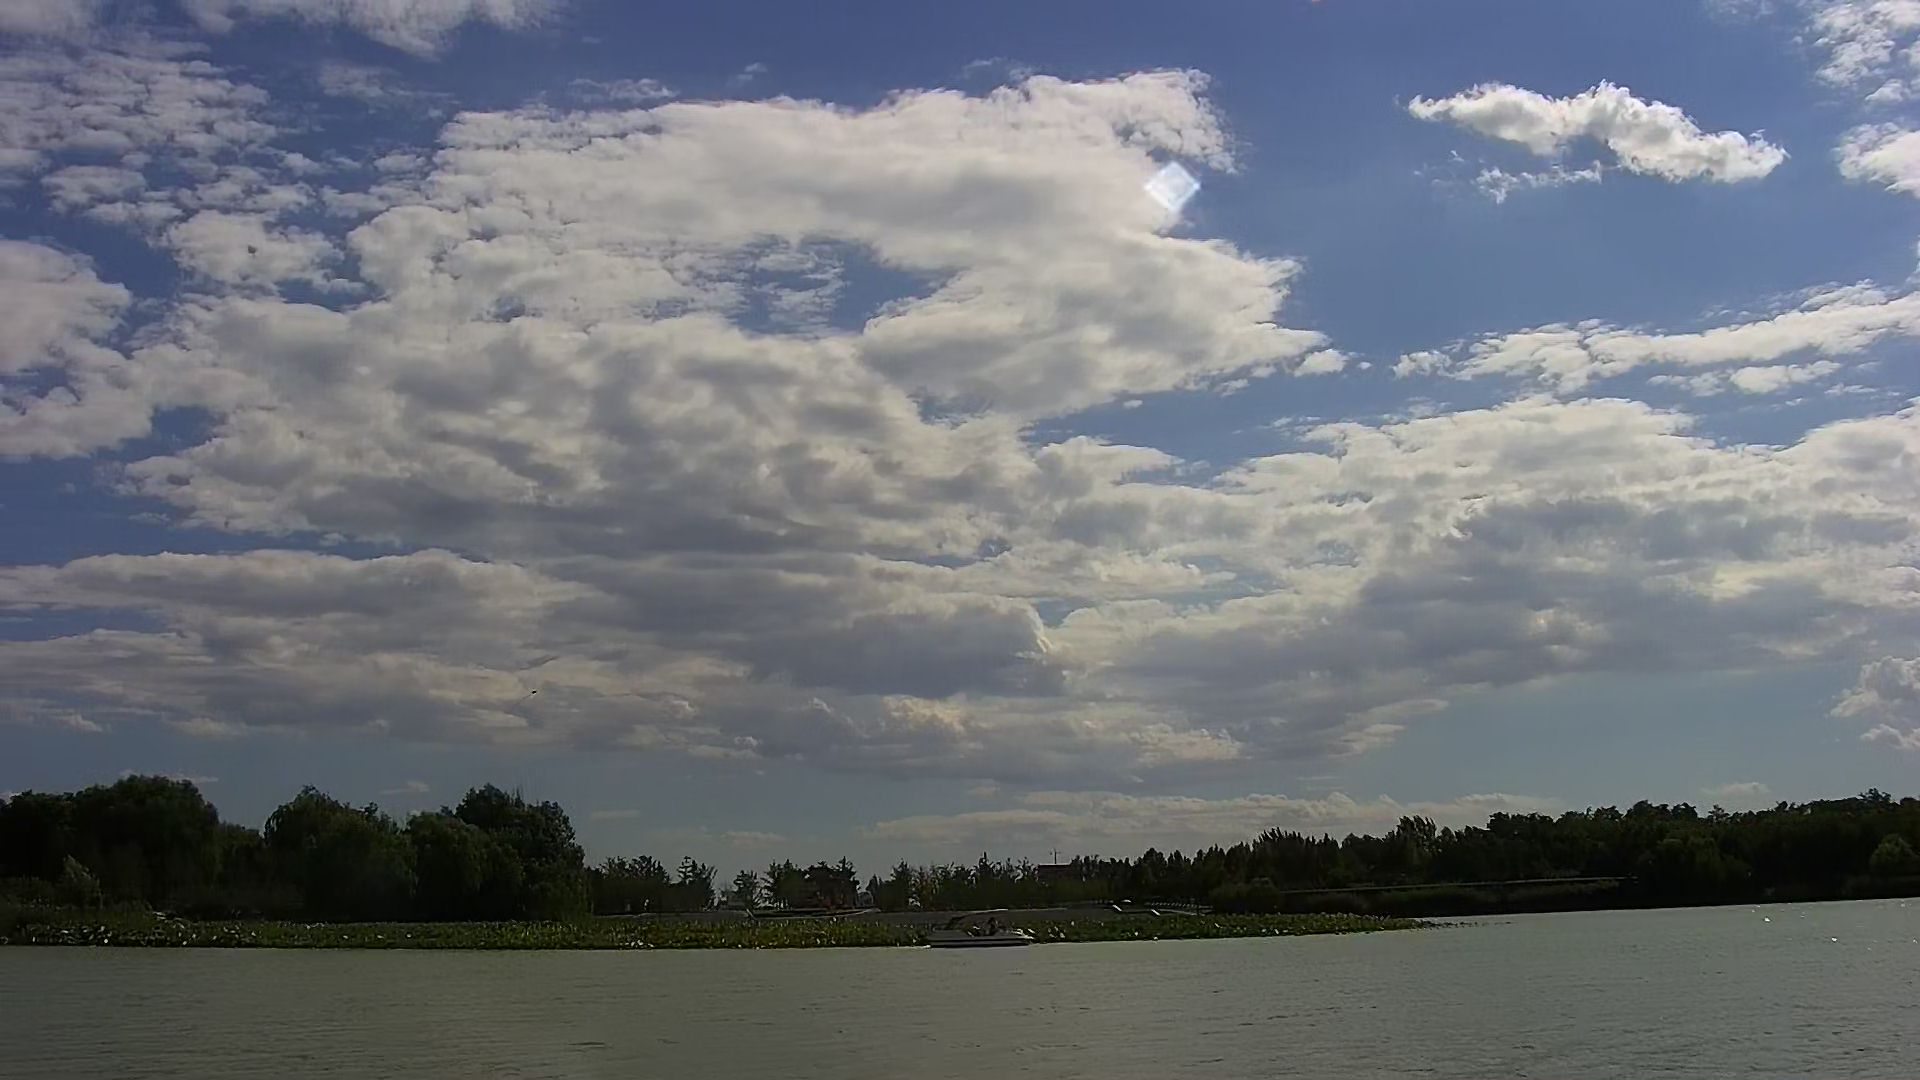grass: (7, 916, 1441, 956)
